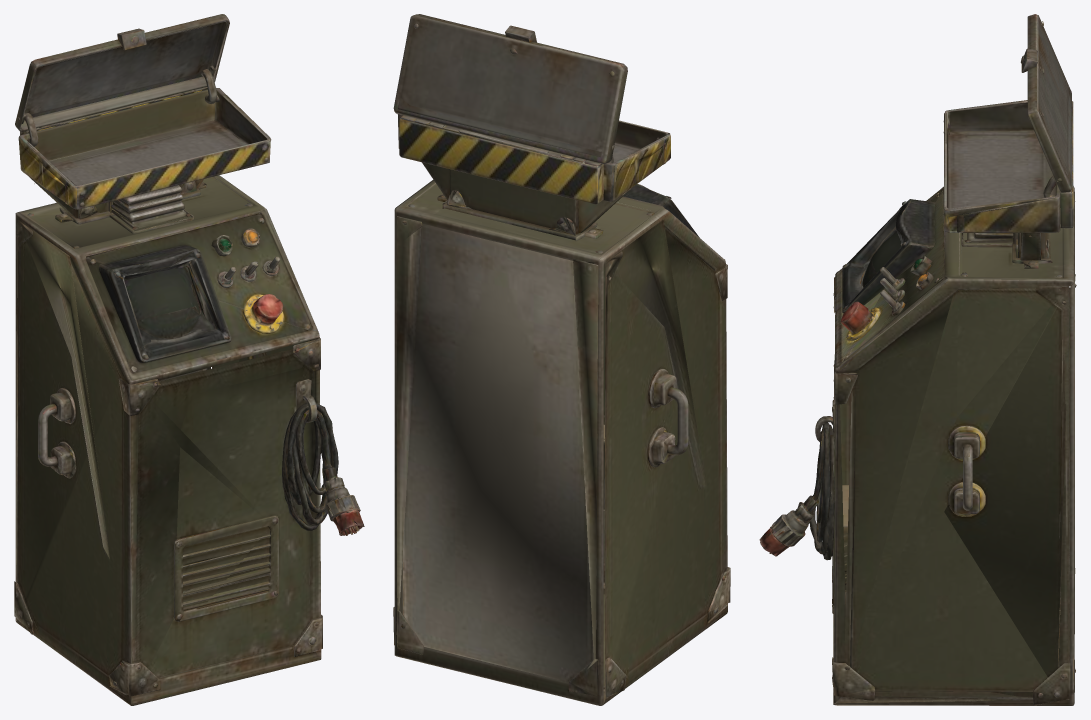
The model's file is train-sentry.glb.
3 views of the same model, side by side, from view 1: azimuth 30°, elevation 25°; view 2: azimuth 150°, elevation 25°; view 3: azimuth 270°, elevation 25° (orthographic). The views are drawn at different scales.
Parts seen in each view (by area): view 1: train-sentry; view 2: train-sentry; view 3: train-sentry.
Part boxes in pixels (bbox=[...]): train-sentry: bbox=[14, 14, 364, 705]; train-sentry: bbox=[393, 14, 730, 705]; train-sentry: bbox=[759, 14, 1076, 705].
Bounding box in the file's own units: 0.411 × 0.9307 × 0.4431.
Materials: 1 (1 with a texture image).
